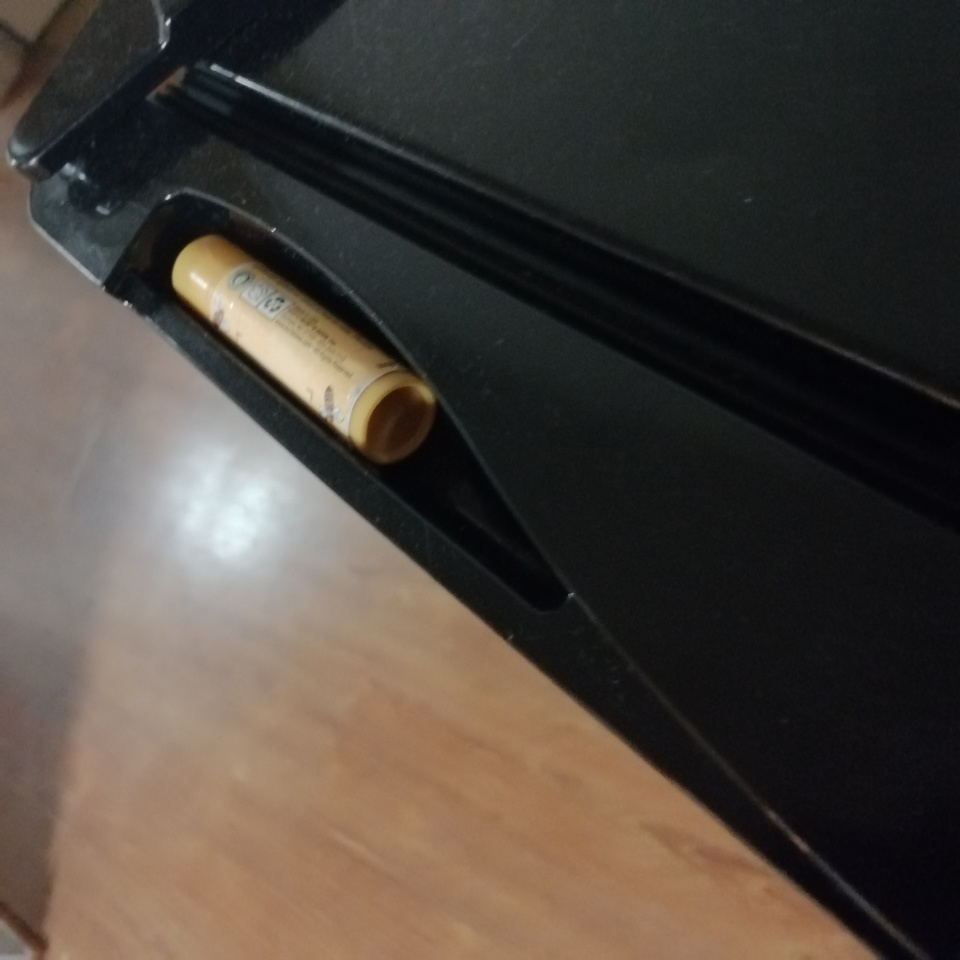chapstick: (170, 232, 435, 465)
